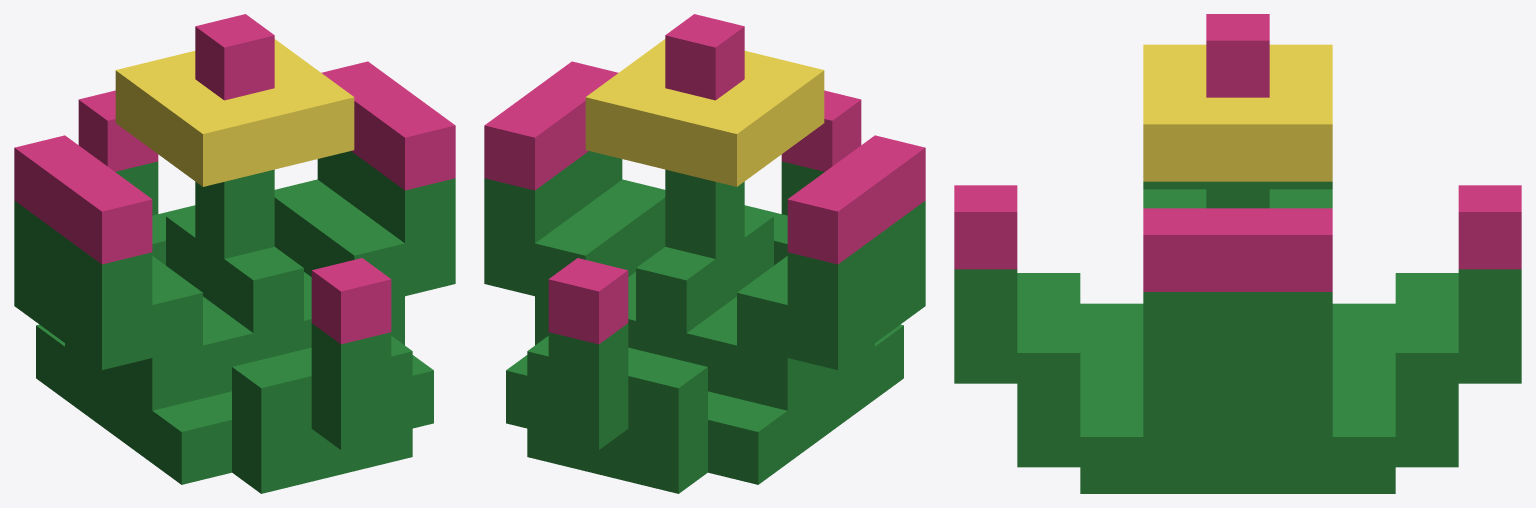
The model's file is Flores playa 3.fbx.
3 views of the same model, side by side, from view 1: azimuth 30°, elevation 25°; view 2: azimuth 150°, elevation 25°; view 3: azimuth 270°, elevation 25° (orthographic). The views are drawn at different scales.
Parts seen in each view (by area): view 1: FloresPlaya3; view 2: FloresPlaya3; view 3: FloresPlaya3.
Part boxes in pixels (left/top/right/bottom): FloresPlaya3: left=14, top=14, right=455, bottom=493; FloresPlaya3: left=484, top=14, right=925, bottom=493; FloresPlaya3: left=954, top=14, right=1521, bottom=493.
Size of the model in its own units: 1.4 by 1.4 by 1.8.
1 material, 1 textured.
